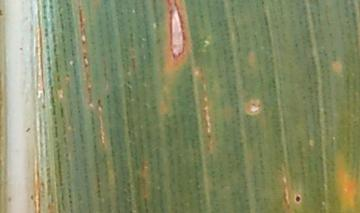tarspot: (294, 193, 301, 203), (95, 96, 102, 106), (24, 125, 31, 132), (30, 193, 34, 202), (1, 8, 4, 18)
